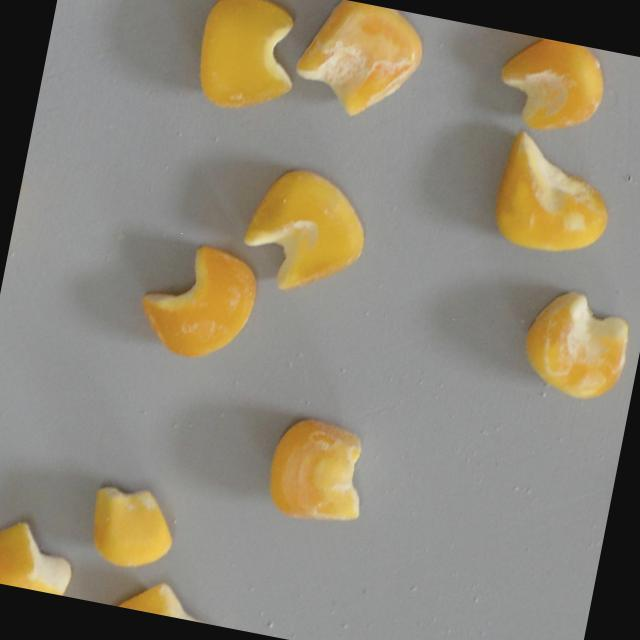no_canjicado: (232, 157, 378, 306), (487, 126, 619, 262), (185, 0, 305, 120), (82, 479, 181, 576)
pelicula: (287, 0, 431, 128), (131, 234, 261, 369), (512, 282, 639, 409), (258, 411, 375, 533), (491, 31, 611, 140), (96, 568, 229, 627), (0, 517, 80, 597)
